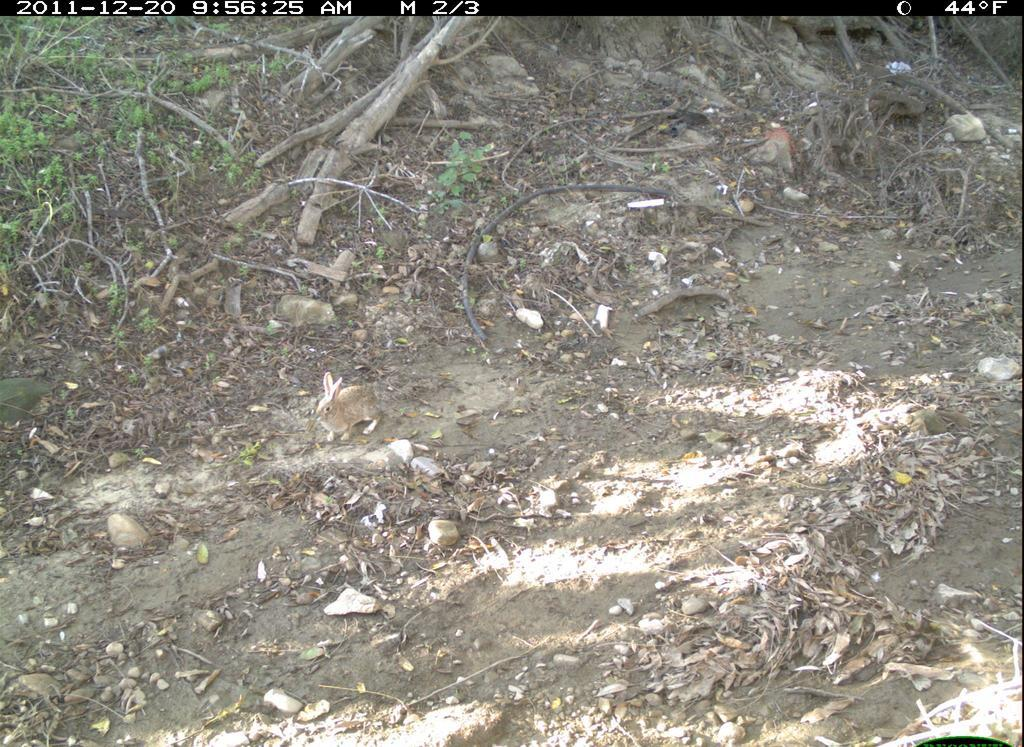rabbit: (308, 367, 392, 447)
